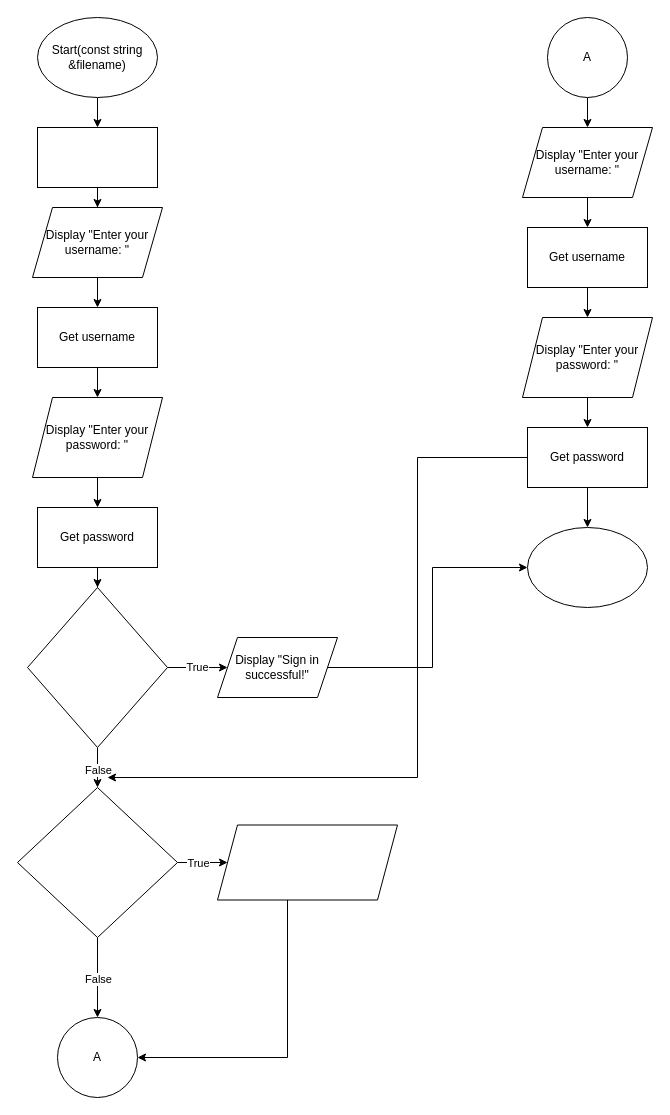
The diagram is 670 pixels wide and 1115 high, and some of its shapes have lost their labels. Each missing label, with the centre of its shape:
!validateUser(filename, username, password): point 97,862
Display "Invalid username or password. Please try again.": point 307,862
End: point 587,567
string username, password: point 97,157
validateUser(filename, username, password): point 97,667
